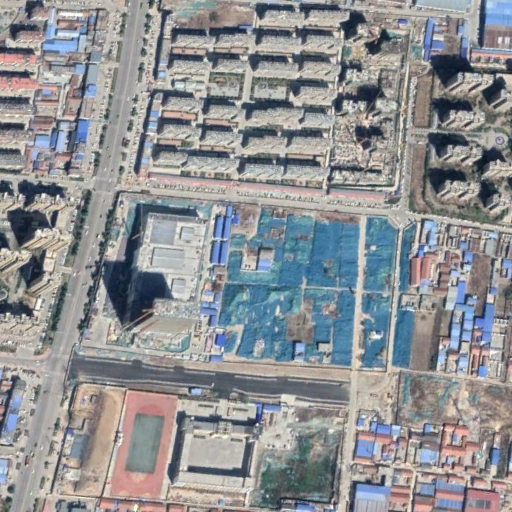cw: (210, 202, 417, 373), (396, 372, 512, 428)
